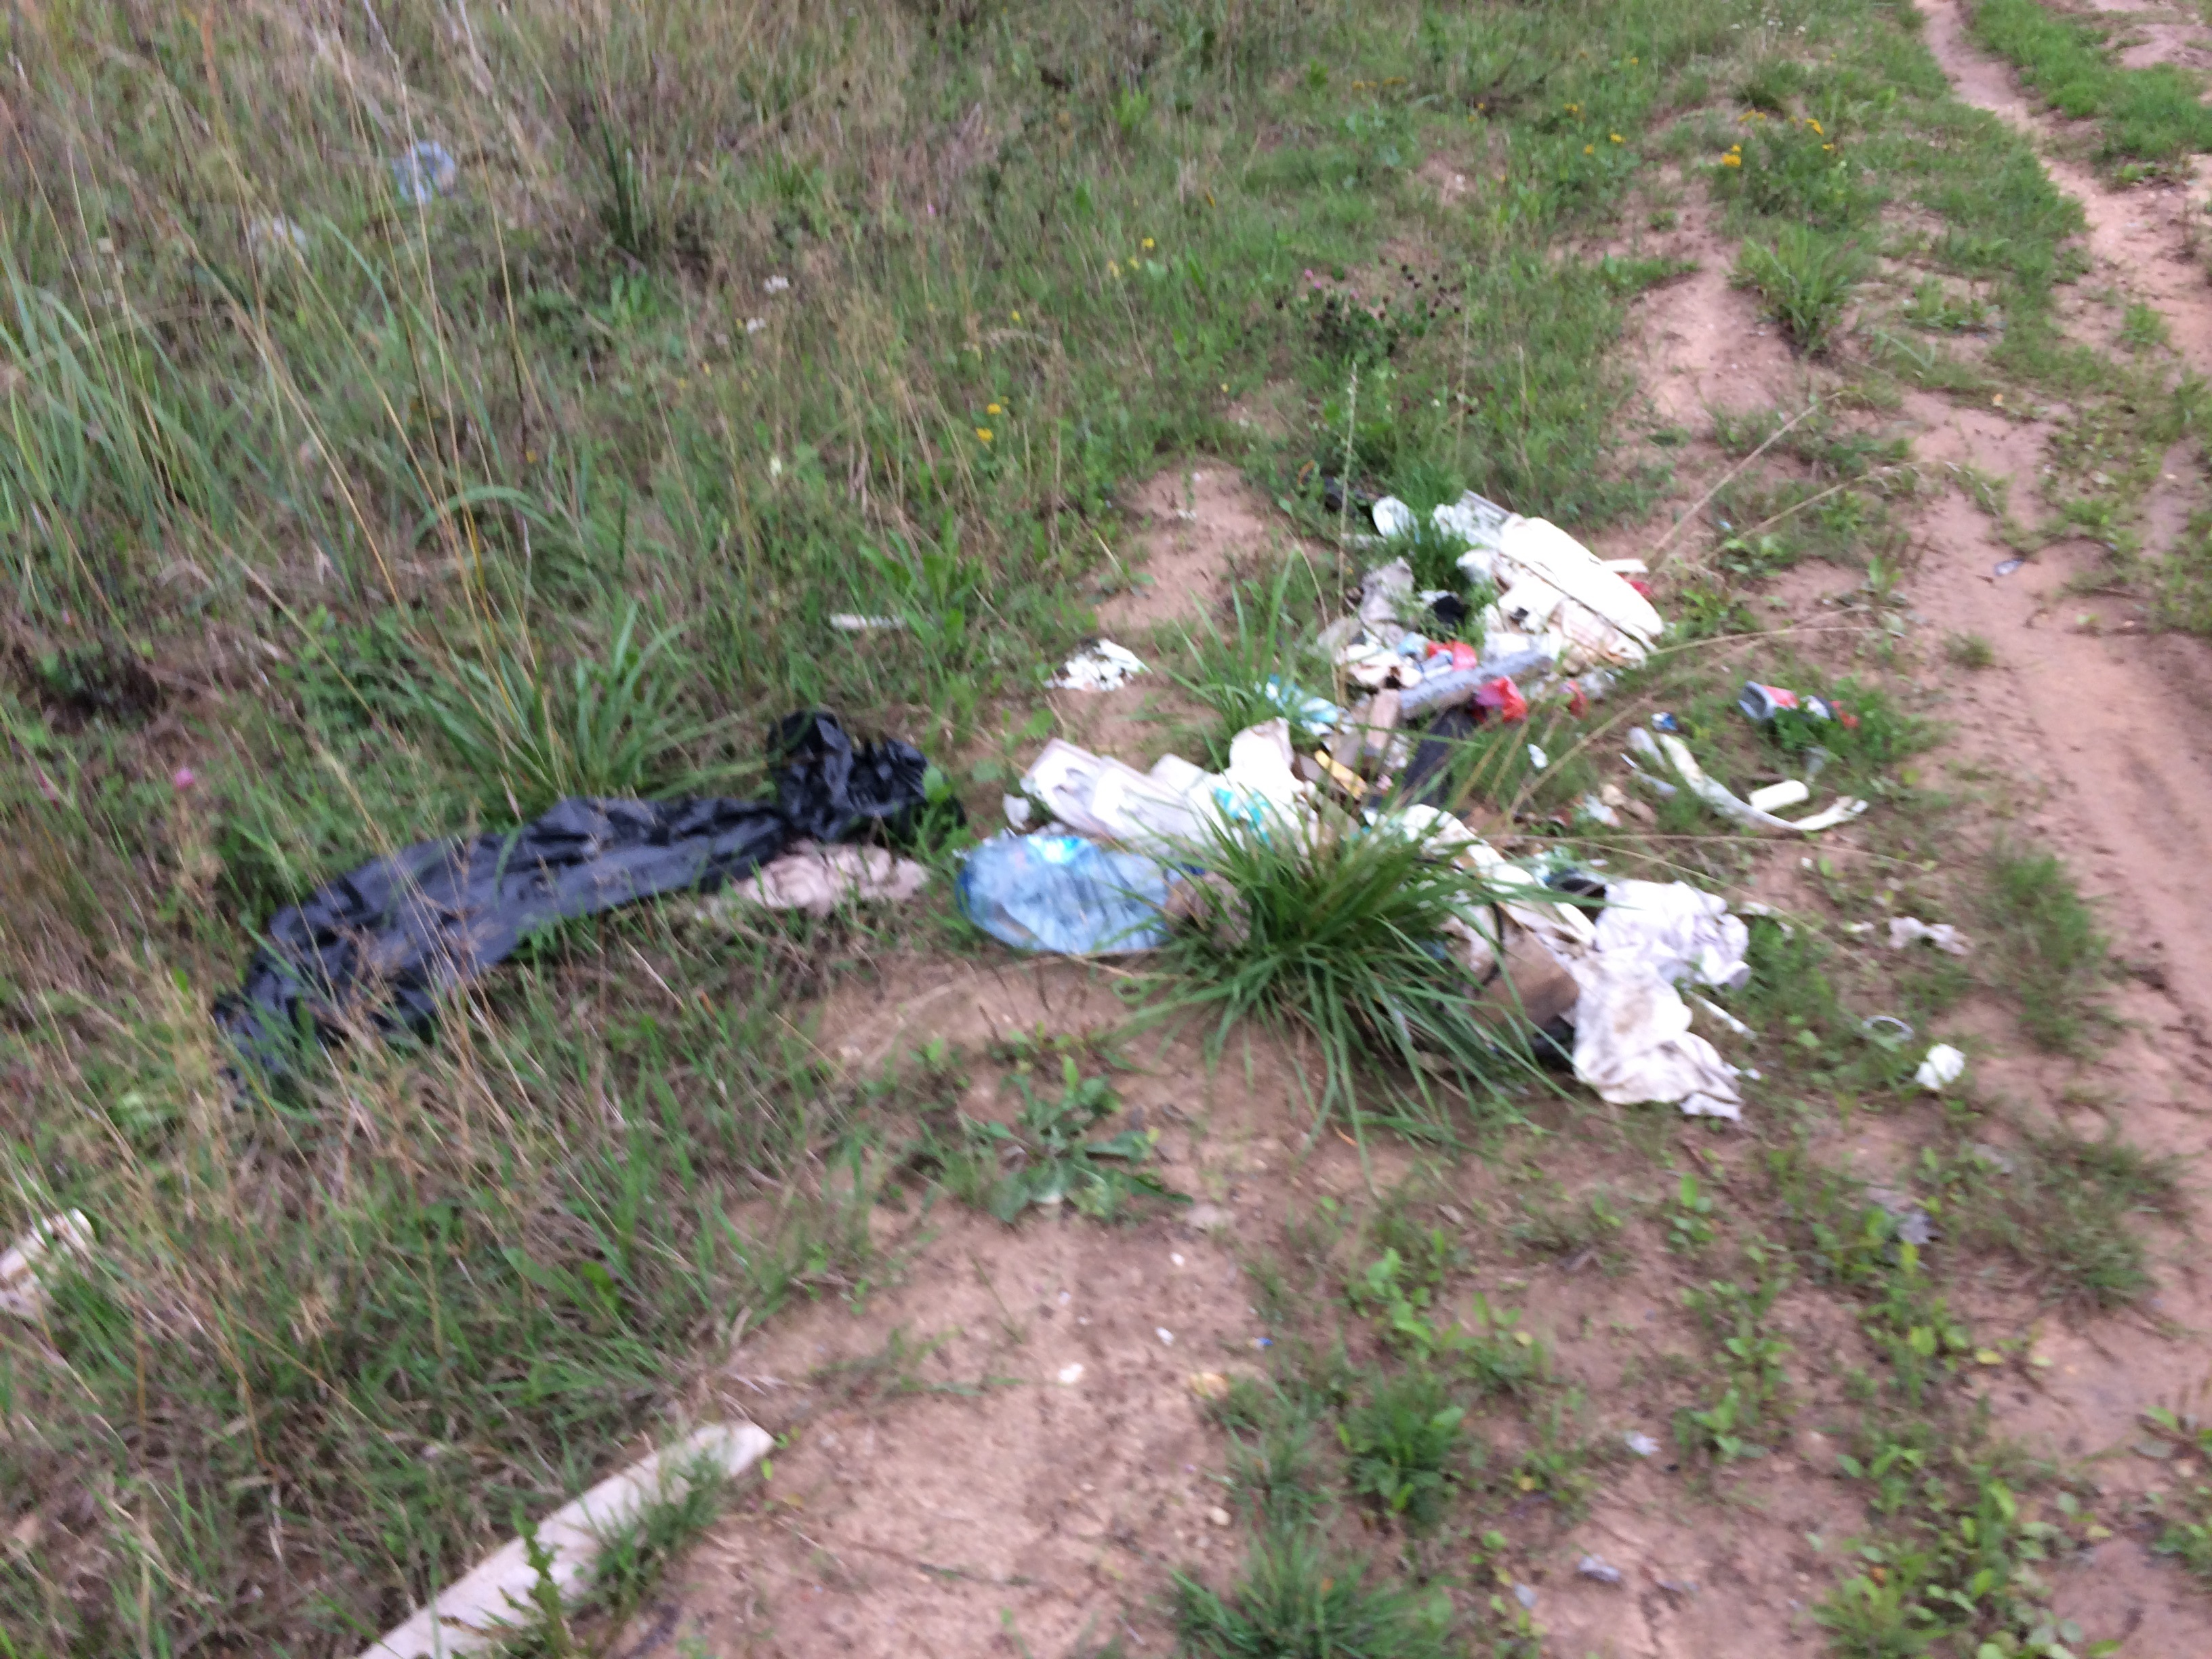trash: (873, 430, 1857, 1086), (247, 662, 939, 1072)
